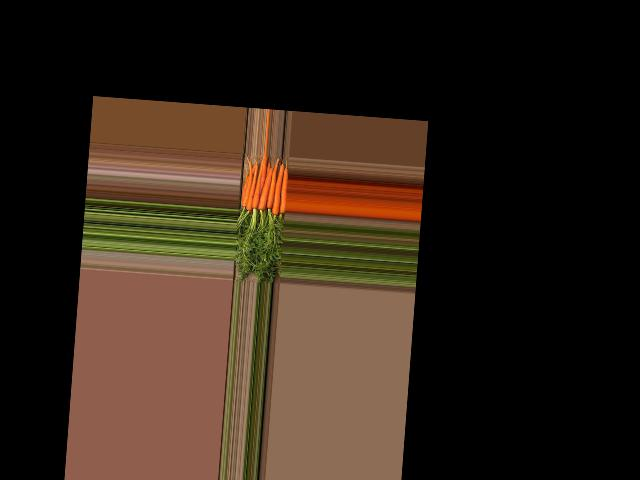carrot: (276, 163, 289, 215)
